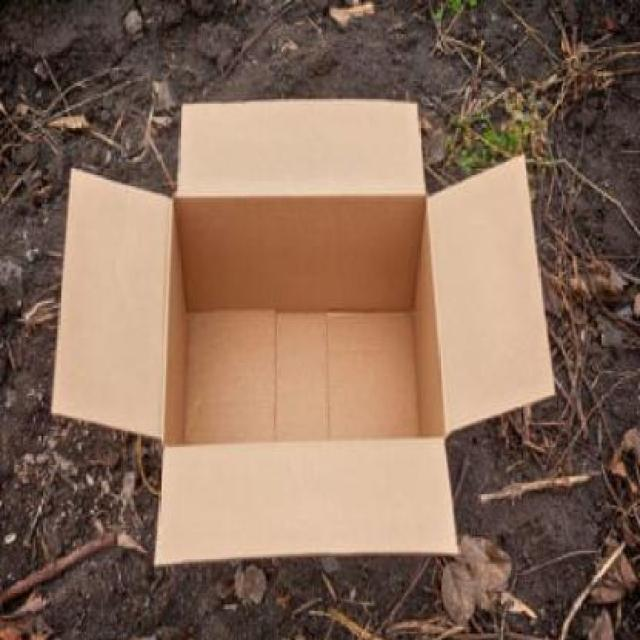box: (45, 72, 563, 571)
